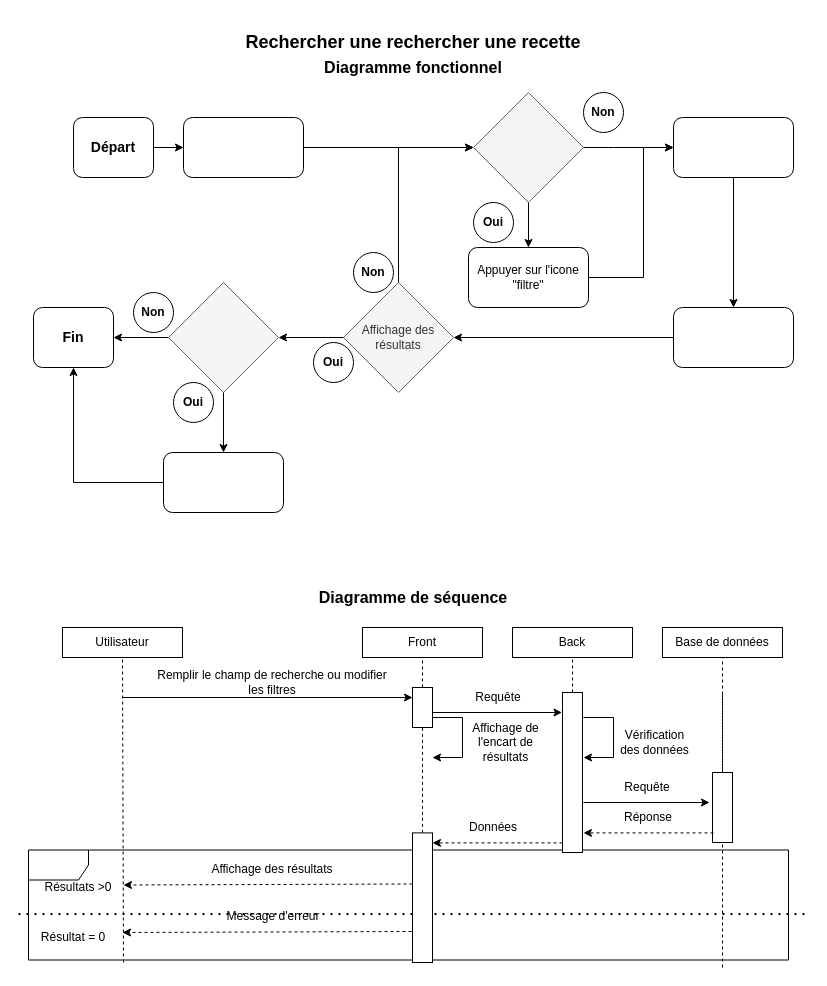
Image size: 827x986. Some labels were removed from this diagram. Here are the shapes that lost their labels. From the top down, the box of each, then its label:
(182, 116, 304, 178): Cliquer dans la barre de recherche
(472, 92, 584, 202): Ajout de filtrer ?
(672, 116, 794, 178): Remplir le champ de recherche
(168, 282, 278, 392): L'utilisateur veut voir plus de résultats
(672, 306, 794, 368): Appuyer sur le bouton valider
(162, 452, 284, 512): Appuyer sur "Voir plus" ou entrer la touche "Enter"
(28, 849, 788, 960): Alt
